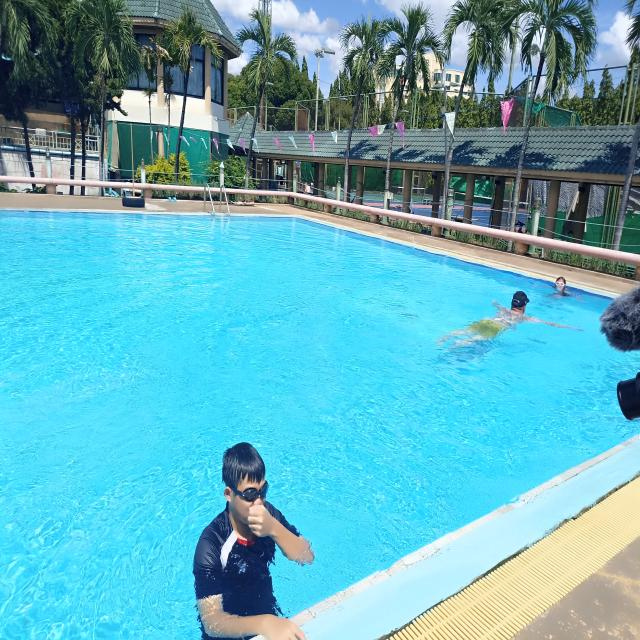Swimming: (422, 284, 554, 365), (548, 266, 576, 309)
